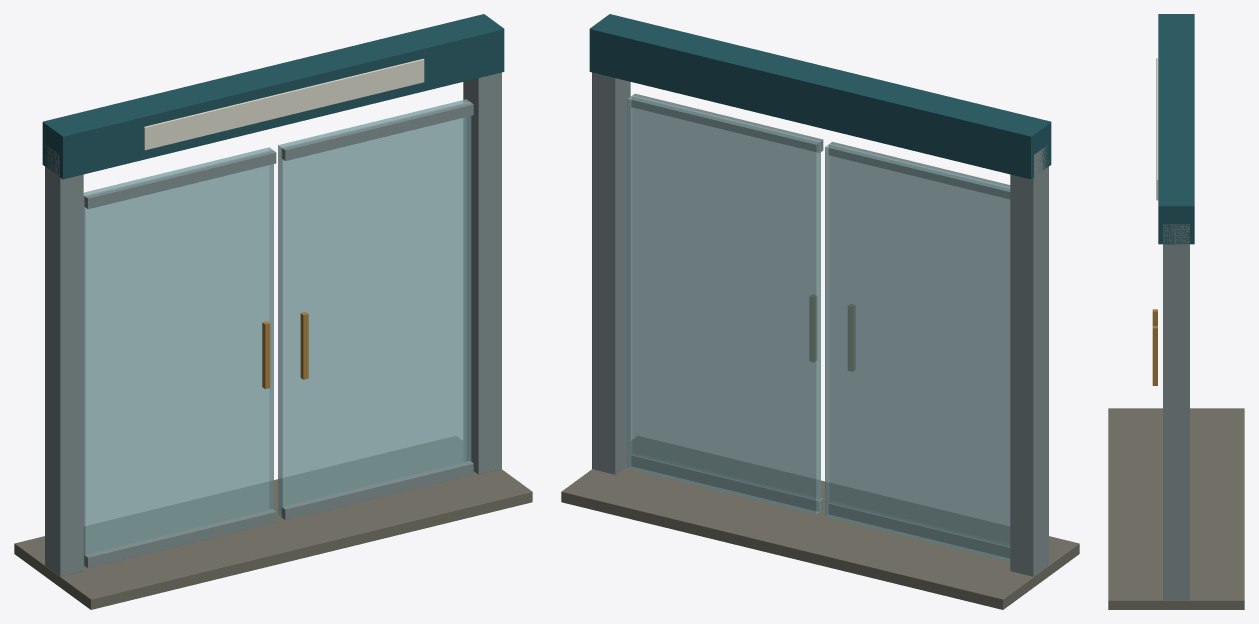
Rendered from bank-branch-entrance.glb.
3 renders of one model, left to right at view 1: azimuth 30°, elevation 25°; view 2: azimuth 150°, elevation 25°; view 3: azimuth 270°, elevation 25°, orthographic. The views are drawn at different scales.
Parts seen in each view (by area): view 1: Leaf.001, Leaf, Threshold, Header, Frame_Jamb, Frame_Jamb.001, Replaceable_Branch_Sign, Door_Rail.002, Door_Rail.001, Door_Rail, Door_Rail.003; view 2: Leaf.001, Leaf, Threshold, Header, Frame_Jamb, Frame_Jamb.001, Door_Rail.003, Door_Rail.002, Door_Rail.001, Door_Rail; view 3: Threshold, Frame_Jamb.001, Header, Replaceable_Branch_Sign, Handle.001.
Boxes of the visible parts, x1,y1,x2,y2 form: Leaf.001: (278, 99, 471, 517); Leaf: (83, 147, 273, 565); Threshold: (14, 436, 532, 609); Header: (42, 14, 504, 179); Frame_Jamb: (45, 145, 83, 576); Frame_Jamb.001: (463, 72, 501, 474); Replaceable_Branch_Sign: (144, 58, 424, 150); Door_Rail.002: (281, 461, 473, 520); Door_Rail.001: (84, 150, 276, 209); Door_Rail: (84, 509, 276, 568); Door_Rail.003: (281, 102, 473, 160); Leaf.001: (627, 95, 820, 514); Leaf: (825, 144, 1010, 561); Threshold: (561, 436, 1079, 609); Header: (589, 14, 1051, 179); Frame_Jamb: (1010, 146, 1048, 576); Frame_Jamb.001: (592, 72, 630, 474); Door_Rail.003: (631, 93, 823, 152); Door_Rail.002: (631, 453, 823, 511); Door_Rail.001: (829, 142, 1010, 198); Door_Rail: (829, 501, 1009, 558); Threshold: (1108, 408, 1244, 609); Frame_Jamb.001: (1163, 224, 1189, 600); Header: (1158, 14, 1194, 244); Replaceable_Branch_Sign: (1156, 58, 1158, 200); Handle.001: (1152, 326, 1157, 385).
Bounding box in the file's own units: 3 × 2.94 × 0.9.
